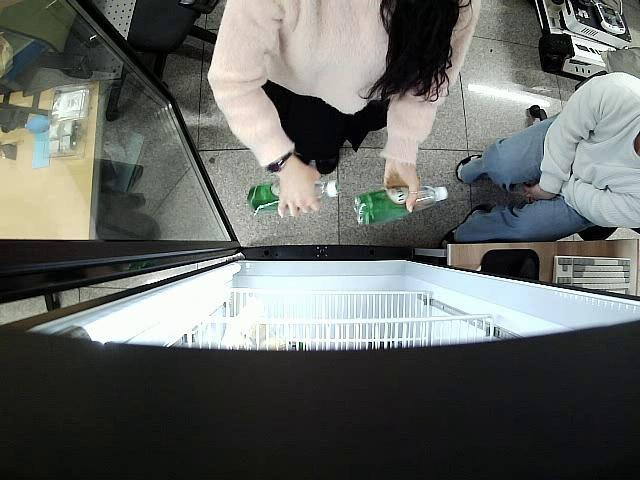18_trevi: (354, 185, 447, 224), (248, 178, 336, 219)
